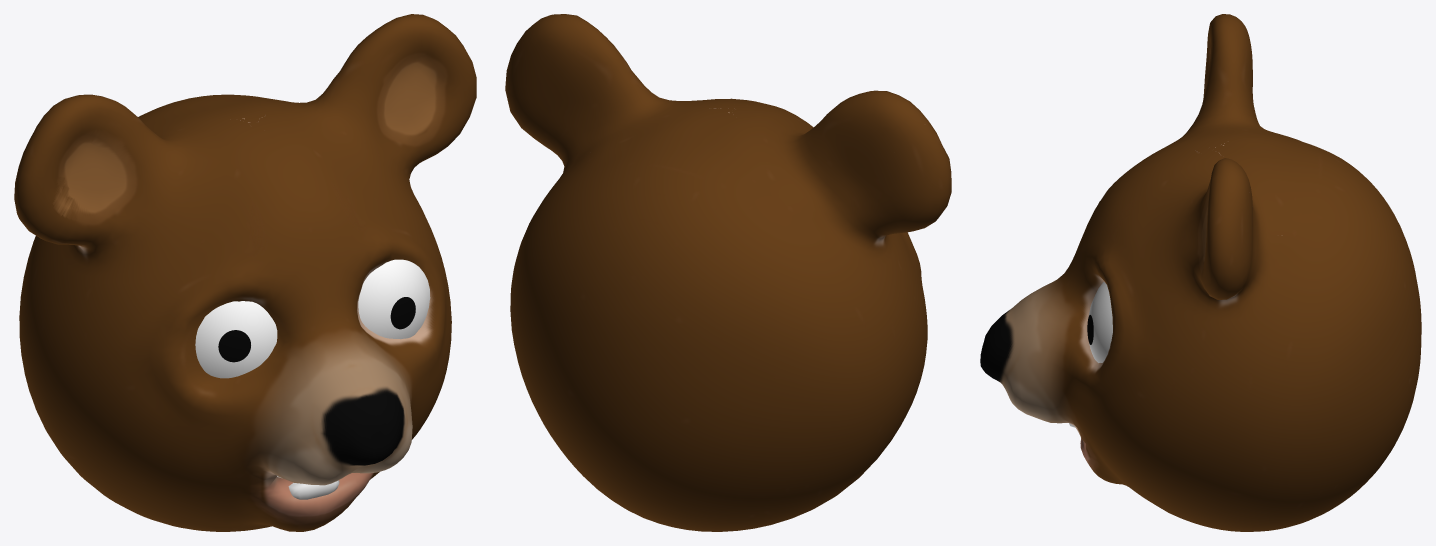
The model's file is bearhead.fbx.
3 renders of one model, left to right at view 1: azimuth 30°, elevation 25°; view 2: azimuth 150°, elevation 25°; view 3: azimuth 270°, elevation 25°, orthographic. The views are drawn at different scales.
Visible parts, largest first — view 1: sphere1, Sphere004, Sphere003, Box003; view 2: sphere1; view 3: sphere1, Sphere003.
Boxes of the visible parts, x1,y1,x2,y2 form: sphere1: (14,14,476,531); Sphere004: (195,301,277,378); Sphere003: (358,259,430,339); Box003: (288,480,339,499); sphere1: (505,14,951,531); sphere1: (980,14,1421,531); Sphere003: (1087,282,1112,362).
Size of the model in its own units: 2.55 by 2.47 by 2.34.
